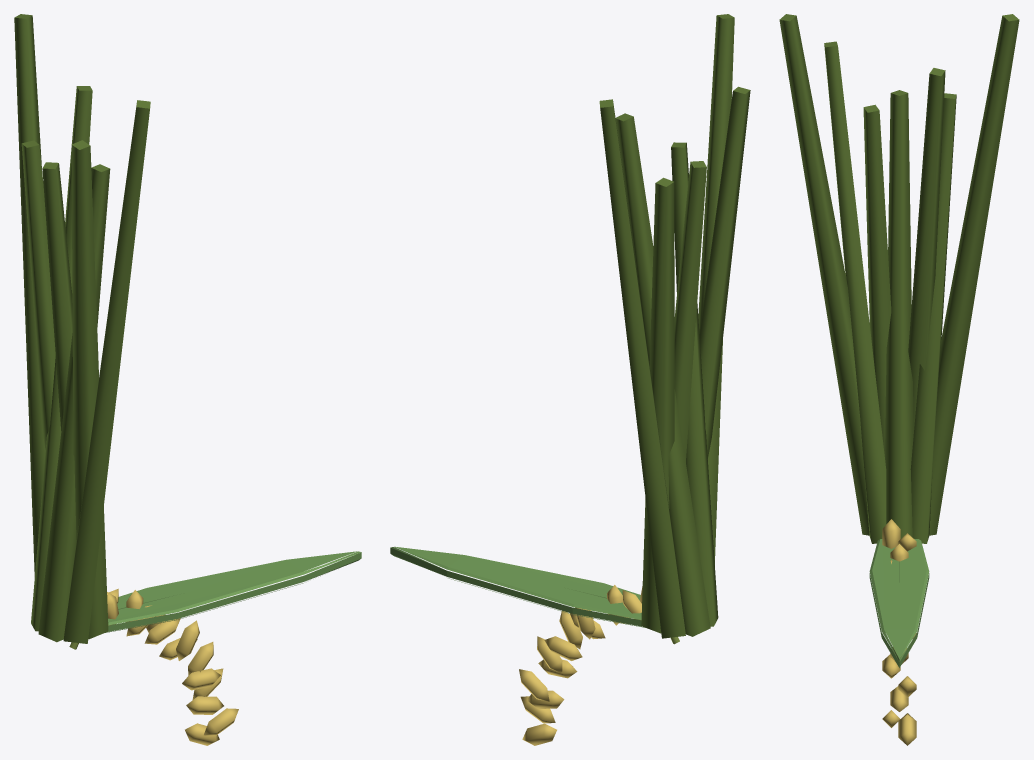
File: rice.glb
3 renders of one model, left to right at view 1: azimuth 30°, elevation 25°; view 2: azimuth 150°, elevation 25°; view 3: azimuth 270°, elevation 25°, orthographic. The views are drawn at different scales.
Visible parts, largest first — view 1: plant.crop-rice; view 2: plant.crop-rice; view 3: plant.crop-rice.
Boxes of the visible parts, x1,y1,x2,y2 form: plant.crop-rice: [14, 14, 361, 745]; plant.crop-rice: [390, 14, 750, 745]; plant.crop-rice: [779, 14, 1019, 745].
Size of the model in its own units: 0.7633 by 1.62 by 0.527.
